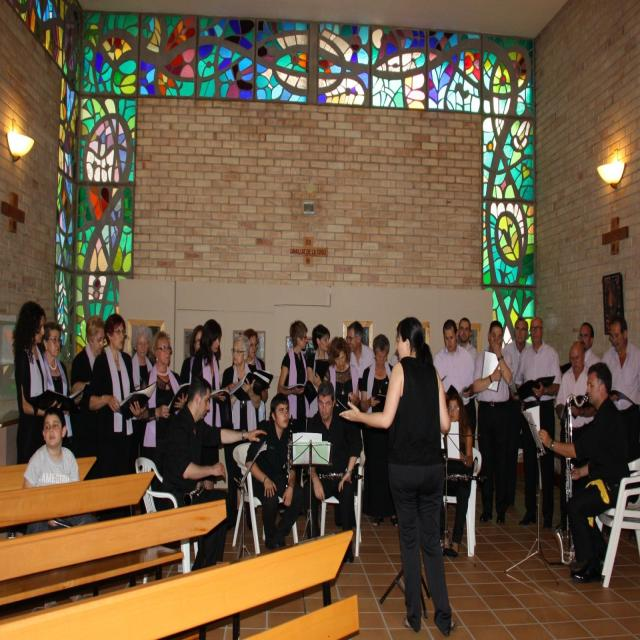clarinet: (304, 465, 366, 484), (282, 414, 296, 495), (181, 482, 212, 507), (439, 472, 489, 481)
